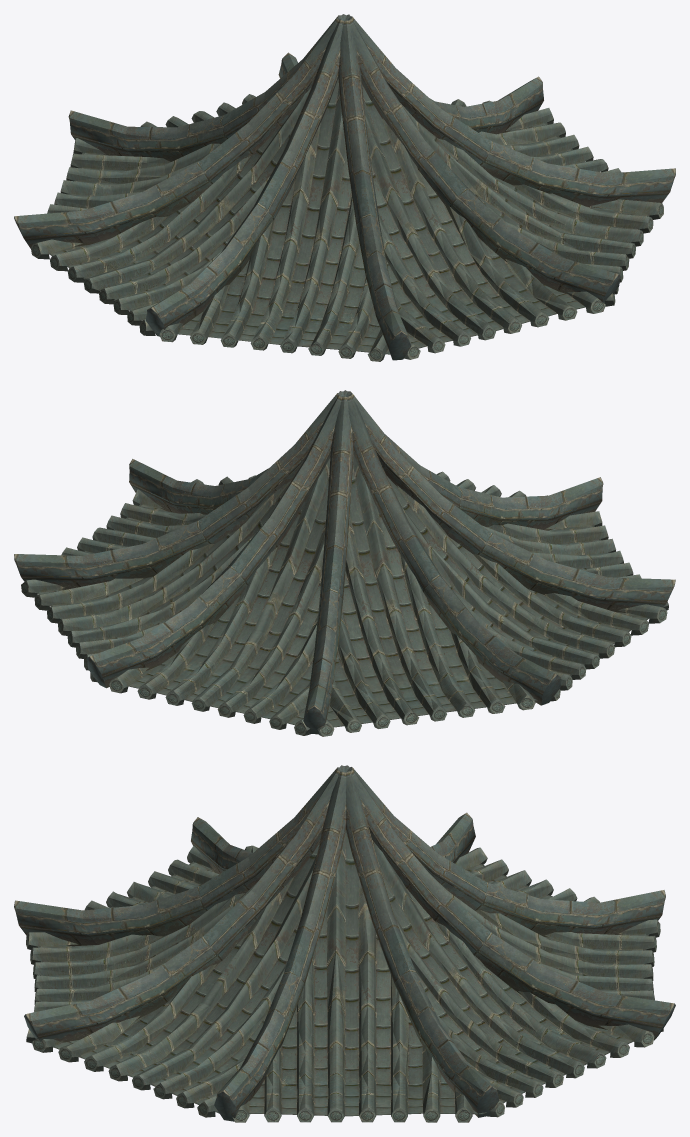
The model's file is bg_anh_mirrorv_octapavilion03_sm_cwk.FBX.
3 views of the same model, one above another, from view 1: azimuth 30°, elevation 25°; view 2: azimuth 150°, elevation 25°; view 3: azimuth 270°, elevation 25° (orthographic). The views are drawn at different scales.
Parts seen in each view (by area): view 1: bg_anh_mirrorv_octapavilion03_sm_cwk; view 2: bg_anh_mirrorv_octapavilion03_sm_cwk; view 3: bg_anh_mirrorv_octapavilion03_sm_cwk.
Part boxes in pixels (x1,y1,x2,y2): bg_anh_mirrorv_octapavilion03_sm_cwk: (14,14,675,361); bg_anh_mirrorv_octapavilion03_sm_cwk: (14,390,675,736); bg_anh_mirrorv_octapavilion03_sm_cwk: (14,765,675,1122).
Size of the model in its own units: 531 by 201 by 531.
